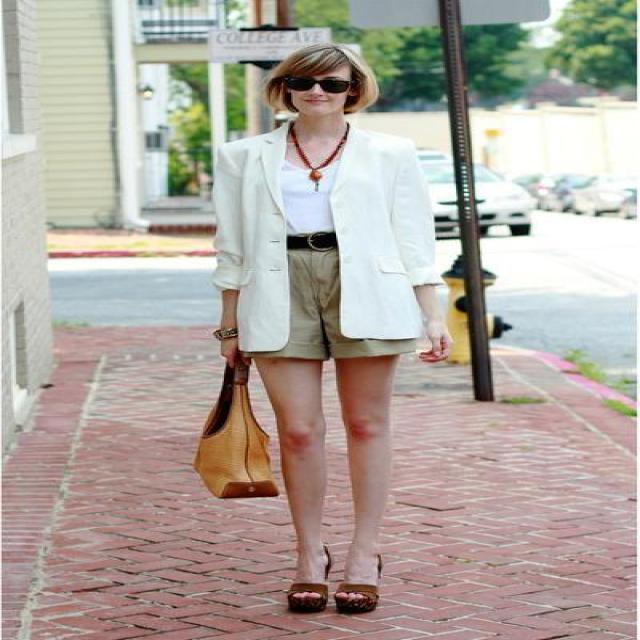bag: (194, 336, 446, 498)
jacket: (173, 119, 461, 351)
shirt: (286, 232, 316, 262)
shoe: (286, 582, 378, 616)
shorts: (278, 244, 416, 370)
sunglass: (317, 65, 365, 109)
